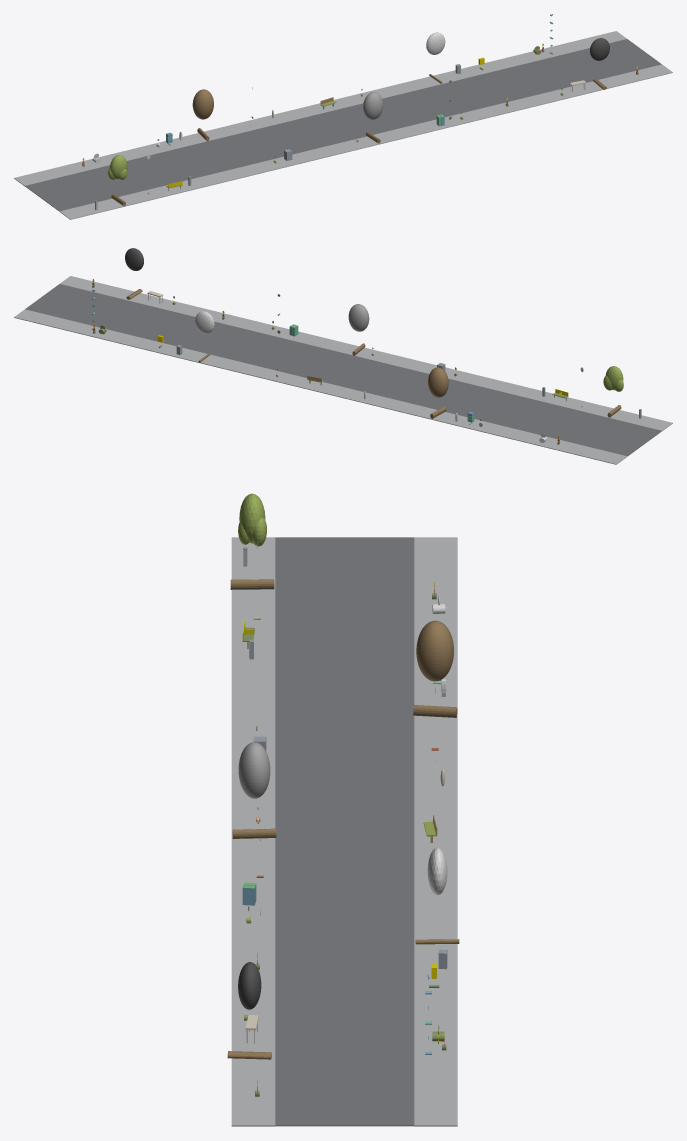
3 views of the same model, one above another, from view 1: azimuth 30°, elevation 25°; view 2: azimuth 150°, elevation 25°; view 3: azimuth 270°, elevation 25° (orthographic). The views are drawn at different scales.
Visible parts, largest first — view 1: road_slab, sidewalk_left, sidewalk_right, inst_0013, inst_0014, inst_0012, inst_0016, inst_0015; view 2: road_slab, sidewalk_right, sidewalk_left, inst_0013, inst_0014, inst_0012, inst_0016, inst_0015; view 3: road_slab, sidewalk_left, sidewalk_right, inst_0013, inst_0014, inst_0012, inst_0016, inst_0015.
Boxes of the visible parts, <box> form: road_slab: <box>25,39,661,211</box>; sidewalk_left: <box>59,64,672,219</box>; sidewalk_right: <box>14,31,626,186</box>; inst_0013: <box>192,89,213,141</box>; inst_0014: <box>363,92,383,143</box>; inst_0012: <box>108,155,127,206</box>; inst_0016: <box>590,38,609,89</box>; inst_0015: <box>426,32,445,83</box>; road_slab: <box>25,284,661,456</box>; sidewalk_right: <box>14,309,627,464</box>; sidewalk_left: <box>60,276,672,431</box>; inst_0013: <box>428,367,448,418</box>; inst_0014: <box>348,304,369,355</box>; inst_0012: <box>603,366,623,417</box>; inst_0016: <box>125,248,143,299</box>; inst_0015: <box>195,311,214,362</box>; road_slab: <box>275,537,414,1126</box>; sidewalk_left: <box>231,537,275,1126</box>; sidewalk_right: <box>414,537,457,1126</box>; inst_0013: <box>413,620,457,717</box>; inst_0014: <box>232,742,276,838</box>; inst_0012: <box>230,493,274,589</box>; inst_0016: <box>227,962,271,1059</box>; inst_0015: <box>415,847,459,944</box>.
Bounding box in the file's own units: 80 × 6.08 × 13.32.
